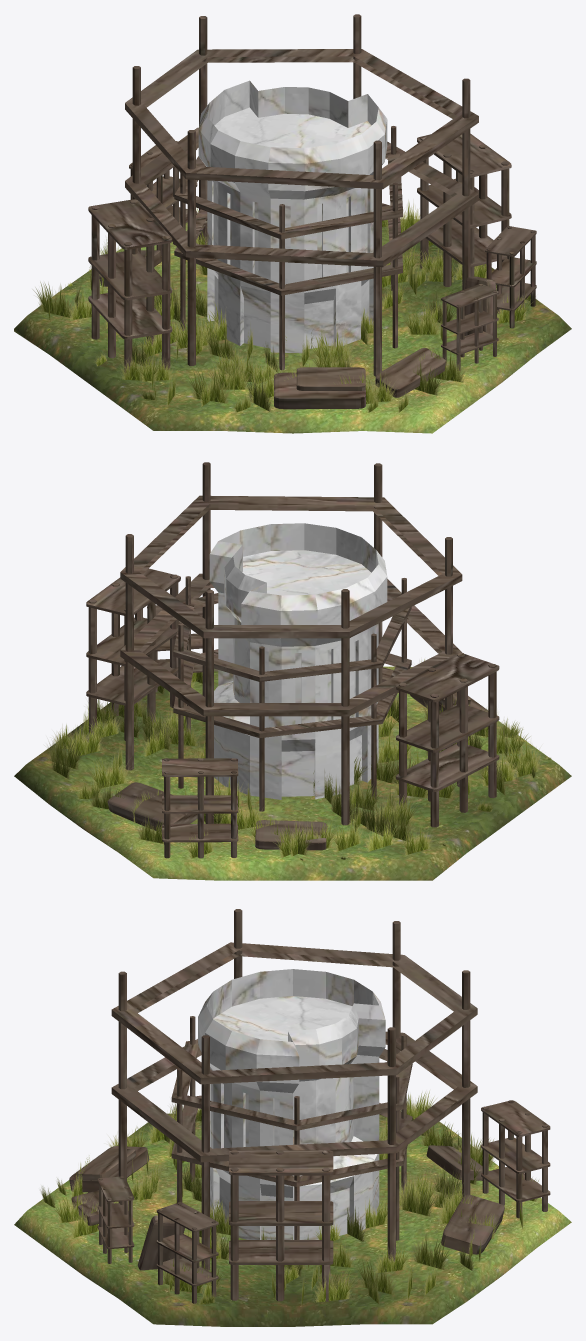
Rendered from hyperstructure_init.glb.
3 renders of one model, top to bottom at view 1: azimuth 30°, elevation 25°; view 2: azimuth 150°, elevation 25°; view 3: azimuth 270°, elevation 25°, orthographic.
Parts seen in each view (by area): view 1: hyperstructure; view 2: hyperstructure; view 3: hyperstructure.
Boxes of the visible parts, x1,y1,x2,y2 form: hyperstructure: [14, 14, 571, 433]; hyperstructure: [14, 462, 571, 880]; hyperstructure: [14, 909, 571, 1326].
Bounding box in the file's own units: 1.73 × 0.9946 × 2.
Materials: 4 (4 with a texture image).
